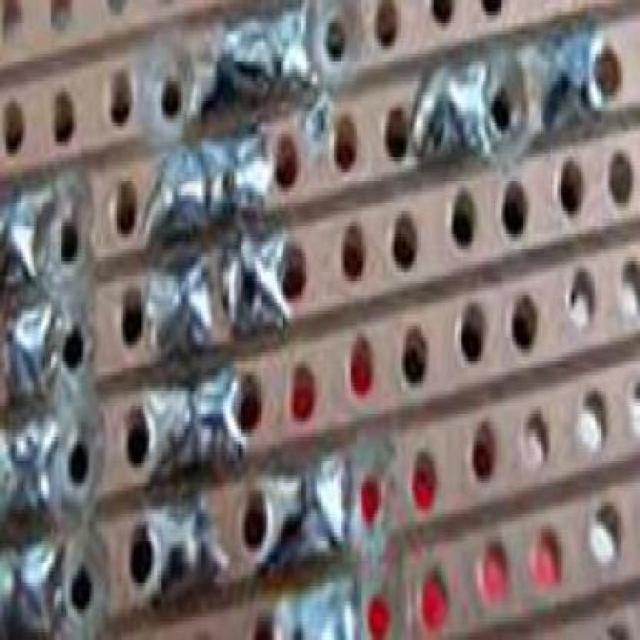Soldering shorted: (138, 122, 278, 222), (132, 364, 240, 472), (260, 448, 348, 564)
